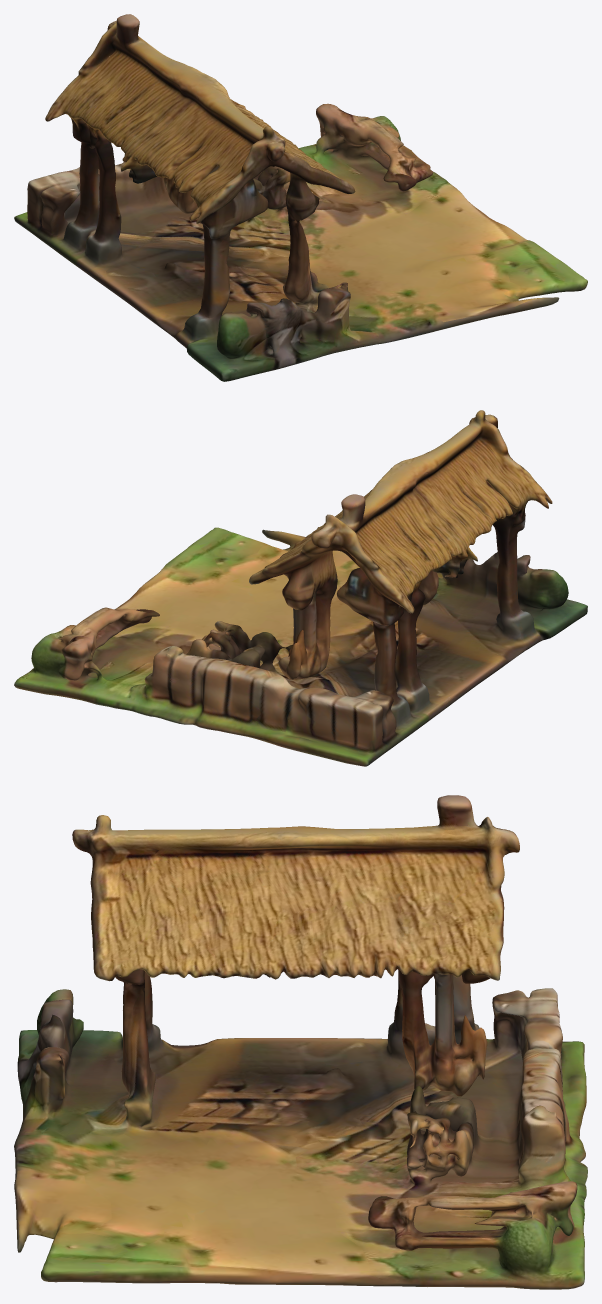
Rendered from sawmill.glb.
3 renders of one model, top to bottom at view 1: azimuth 30°, elevation 25°; view 2: azimuth 150°, elevation 25°; view 3: azimuth 270°, elevation 25°, orthographic. The views are drawn at different scales.
Visible parts, largest first — view 1: tripo_node_6b8c17cc-2ff5-4224-97c1-ae88d63e618b; view 2: tripo_node_6b8c17cc-2ff5-4224-97c1-ae88d63e618b; view 3: tripo_node_6b8c17cc-2ff5-4224-97c1-ae88d63e618b.
Boxes of the visible parts, x1=… form: tripo_node_6b8c17cc-2ff5-4224-97c1-ae88d63e618b: x1=14, y1=14, x2=587, y2=381; tripo_node_6b8c17cc-2ff5-4224-97c1-ae88d63e618b: x1=14, y1=410, x2=587, y2=766; tripo_node_6b8c17cc-2ff5-4224-97c1-ae88d63e618b: x1=14, y1=795, x2=587, y2=1289.
Size of the model in its own units: 0.6402 by 0.3812 by 0.6549.
Materials: 1 (1 with a texture image).
